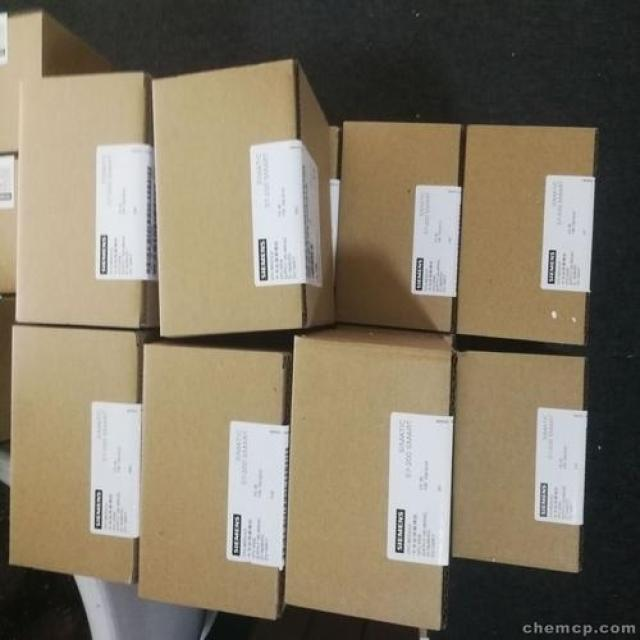box: (285, 326, 457, 631), (151, 59, 333, 338), (137, 339, 292, 621), (9, 325, 159, 585), (14, 72, 159, 329), (457, 124, 598, 346), (451, 351, 589, 575), (334, 122, 462, 333), (0, 9, 123, 154)
